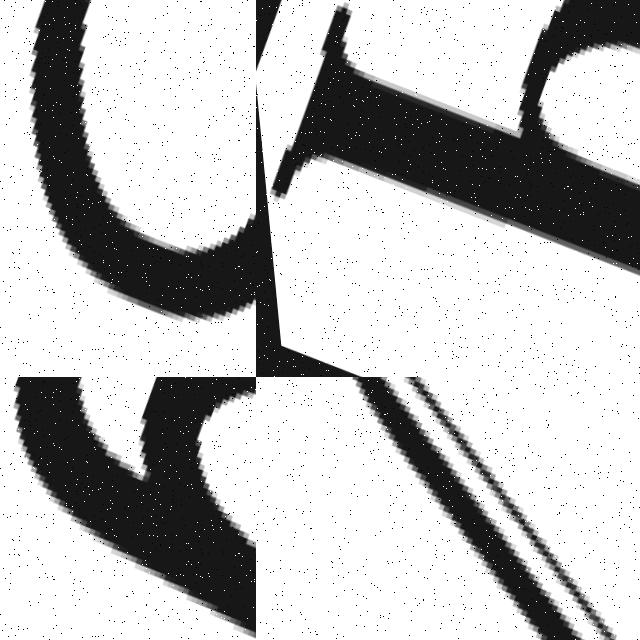3: (0, 0, 256, 377)
7: (256, 377, 640, 640)
G: (0, 377, 256, 640)
Q: (256, 0, 640, 377)
